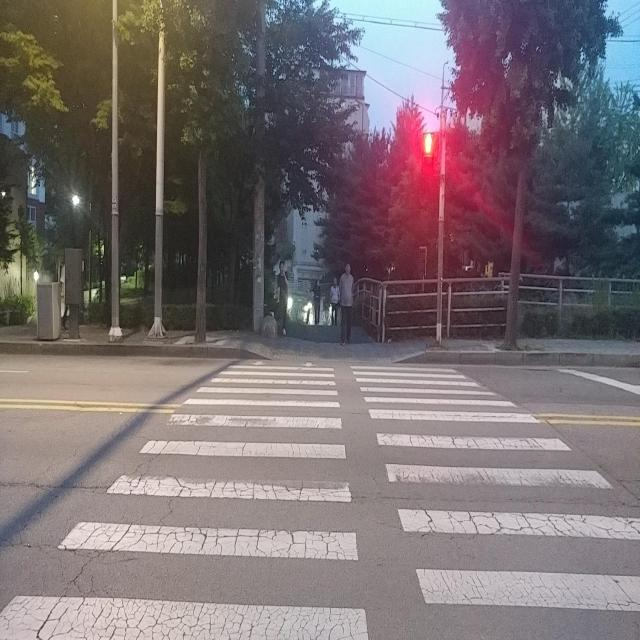빨간불: (422, 130, 436, 184)
횡단보도: (0, 361, 640, 639)
